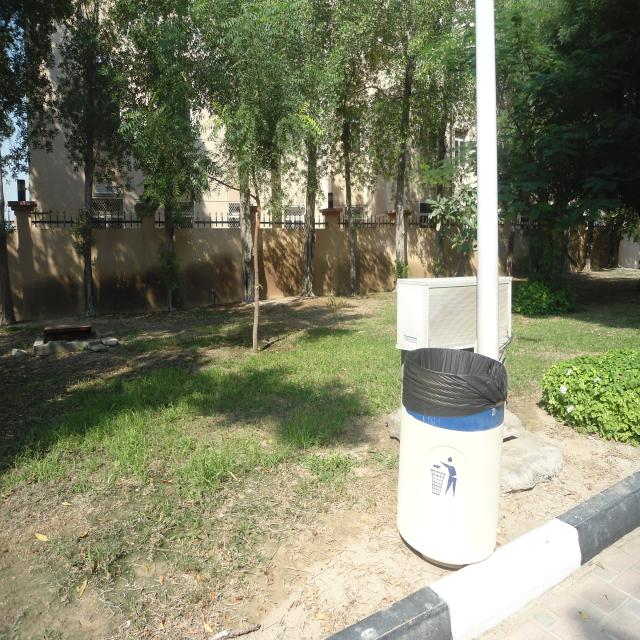bush: (539, 340, 640, 450), (514, 264, 582, 326)
dustbin: (394, 342, 508, 578)
lamp: (474, 0, 502, 362)
obstacle: (394, 270, 520, 352)
tree-chair-bench-table-wall: (0, 0, 474, 345), (498, 2, 640, 286)
